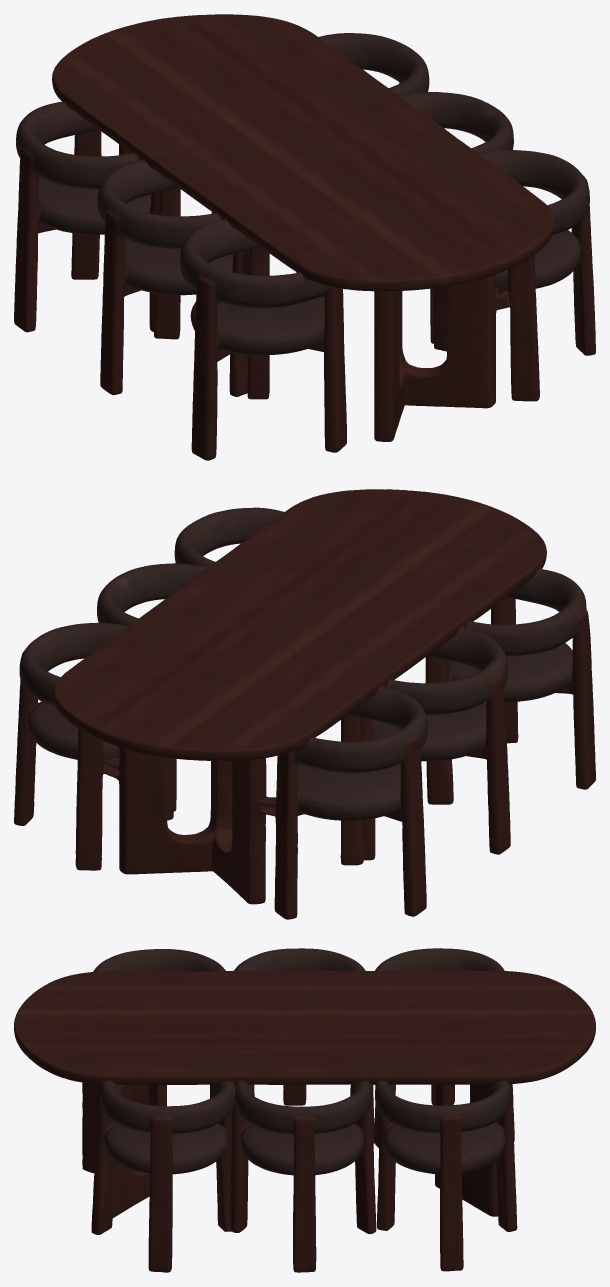
Rendered from table-lamp.glb.
3 views of the same model, one above another, from view 1: azimuth 30°, elevation 25°; view 2: azimuth 150°, elevation 25°; view 3: azimuth 270°, elevation 25° (orthographic). The views are drawn at different scales.
Visible parts, largest first — view 1: world; view 2: world; view 3: world.
Boxes of the visible parts, x1=… form: world: x1=14, y1=14, x2=595, y2=460; world: x1=14, y1=489, x2=595, y2=919; world: x1=14, y1=948, x2=595, y2=1272.
Size of the model in its own units: 0.7008 by 0.3121 by 1.
1 material, 1 textured.
